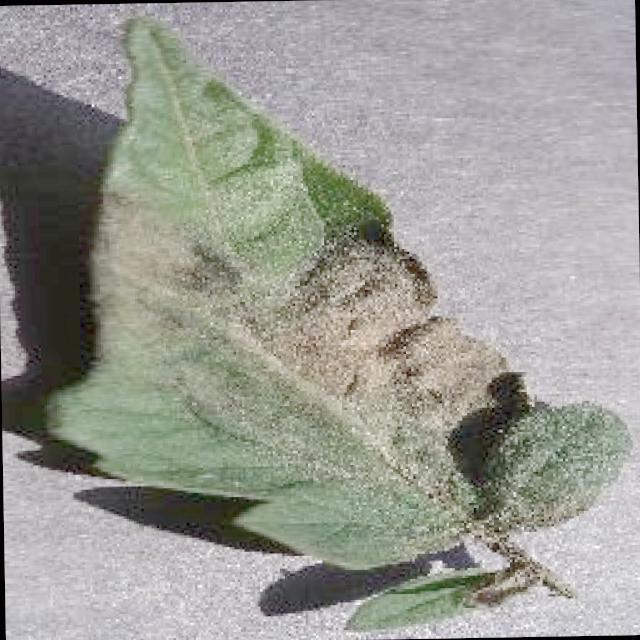Tomato late blight leaf: (46, 3, 636, 578)
